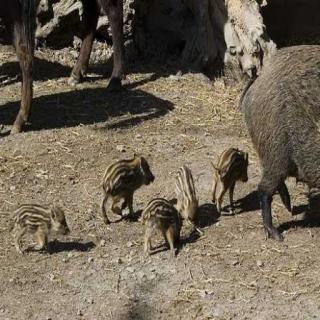Pig: (5, 192, 80, 267), (85, 154, 162, 210), (210, 128, 259, 208), (137, 192, 191, 264), (166, 156, 213, 225)
